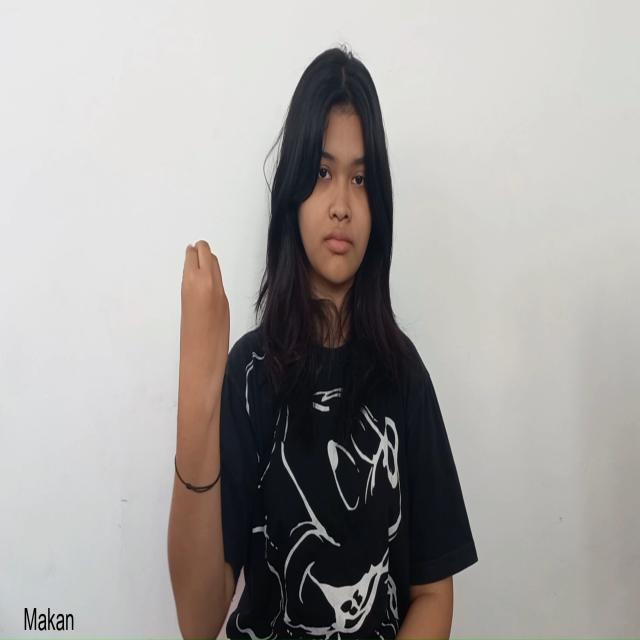Makan -BISINDO-: (174, 237, 232, 442)
